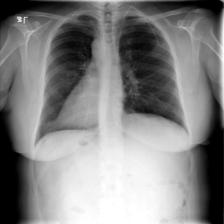normal: (29, 3, 190, 145)
